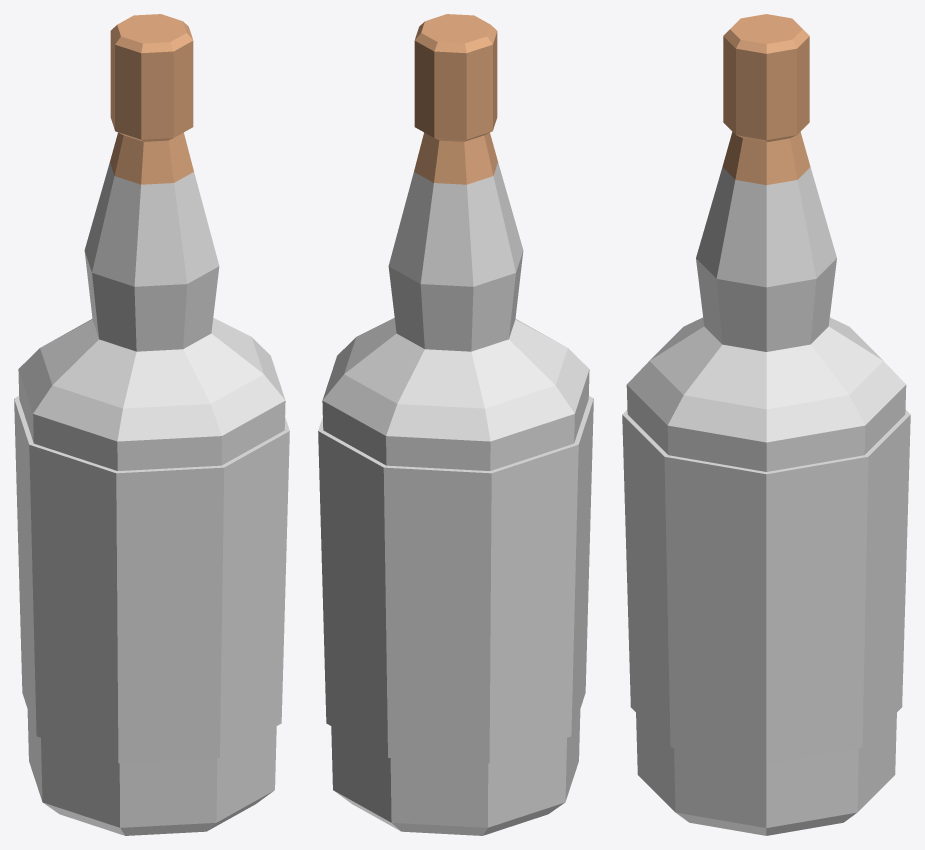
The model's file is Botella_4.fbx.
3 renders of one model, left to right at view 1: azimuth 30°, elevation 25°; view 2: azimuth 150°, elevation 25°; view 3: azimuth 270°, elevation 25°, orthographic.
Visible parts, largest first — view 1: Botella_4; view 2: Botella_4; view 3: Botella_4.
Boxes of the visible parts, box(x1,y1,x2,y2) form: Botella_4: box(14, 14, 289, 835); Botella_4: box(318, 14, 593, 835); Botella_4: box(622, 14, 910, 835).
Size of the model in its own units: 62.88 by 187 by 64.11.
